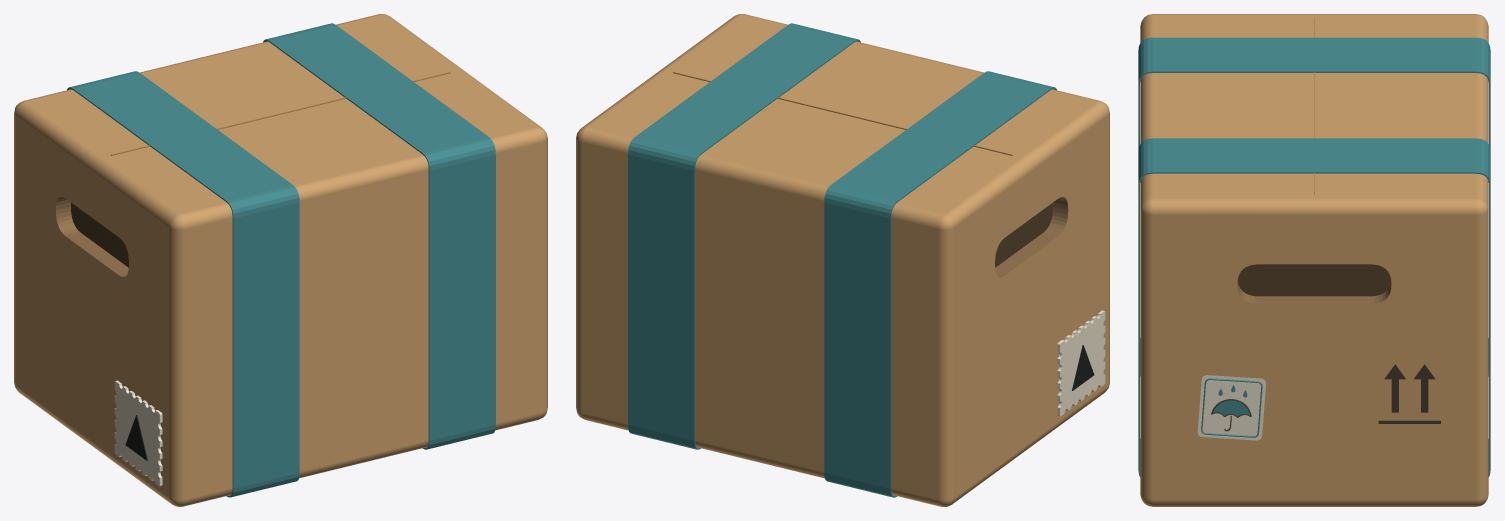
The model's file is play-parcel-large-teal.glb.
3 renders of one model, left to right at view 1: azimuth 30°, elevation 25°; view 2: azimuth 150°, elevation 25°; view 3: azimuth 270°, elevation 25°, orthographic. The views are drawn at different scales.
Visible parts, largest first — view 1: Parcel_Carton, Parcel_Tape_Parallel_1, Parcel_Tape_Parallel_2, Parcel_Paper_Label, Parcel_Carry_Slot_Walls_Negative_X, Parcel_Carry_Slot_Interior_Negative_X; view 2: Parcel_Carton, Parcel_Tape_Parallel_1, Parcel_Tape_Parallel_2, Parcel_Paper_Label, Parcel_Carry_Slot_Walls_Negative_X, Parcel_Carry_Slot_Interior_Negative_X; view 3: Parcel_Carton, Parcel_Tape_Parallel_2, Parcel_Tape_Parallel_1, Parcel_Carry_Slot_Interior_Positive_X, Parcel_Care_Keep_Dry_Paper, Parcel_Carry_Slot_Walls_Positive_X, Parcel_Up_Arrows_Positive_X, Parcel_Care_Keep_Dry_Border, Parcel_Care_Umbrella_Canopy.
Boxes of the visible parts, box(x1,y1,x2,y2) form: Parcel_Carton: box(14, 14, 547, 506); Parcel_Tape_Parallel_1: box(67, 71, 299, 497); Parcel_Tape_Parallel_2: box(263, 23, 495, 449); Parcel_Paper_Label: box(114, 380, 162, 486); Parcel_Carry_Slot_Walls_Negative_X: box(56, 196, 128, 277); Parcel_Carry_Slot_Interior_Negative_X: box(71, 202, 128, 267); Parcel_Carton: box(576, 14, 1109, 506); Parcel_Tape_Parallel_1: box(824, 71, 1056, 497); Parcel_Tape_Parallel_2: box(628, 23, 860, 449); Parcel_Paper_Label: box(1057, 310, 1105, 416); Parcel_Carry_Slot_Walls_Negative_X: box(995, 197, 1068, 277); Parcel_Carry_Slot_Interior_Negative_X: box(995, 202, 1052, 267); Parcel_Carton: box(1140, 14, 1488, 506); Parcel_Tape_Parallel_2: box(1138, 138, 1490, 476); Parcel_Tape_Parallel_1: box(1138, 37, 1490, 376); Parcel_Carry_Slot_Interior_Positive_X: box(1237, 264, 1391, 296); Parcel_Care_Keep_Dry_Paper: box(1197, 375, 1265, 440); Parcel_Carry_Slot_Walls_Positive_X: box(1237, 281, 1391, 304); Parcel_Up_Arrows_Positive_X: box(1378, 364, 1440, 423); Parcel_Care_Keep_Dry_Border: box(1201, 378, 1262, 437); Parcel_Care_Umbrella_Canopy: box(1213, 400, 1250, 416).
Size of the model in its own units: 0.2546 by 0.187 by 0.192.
